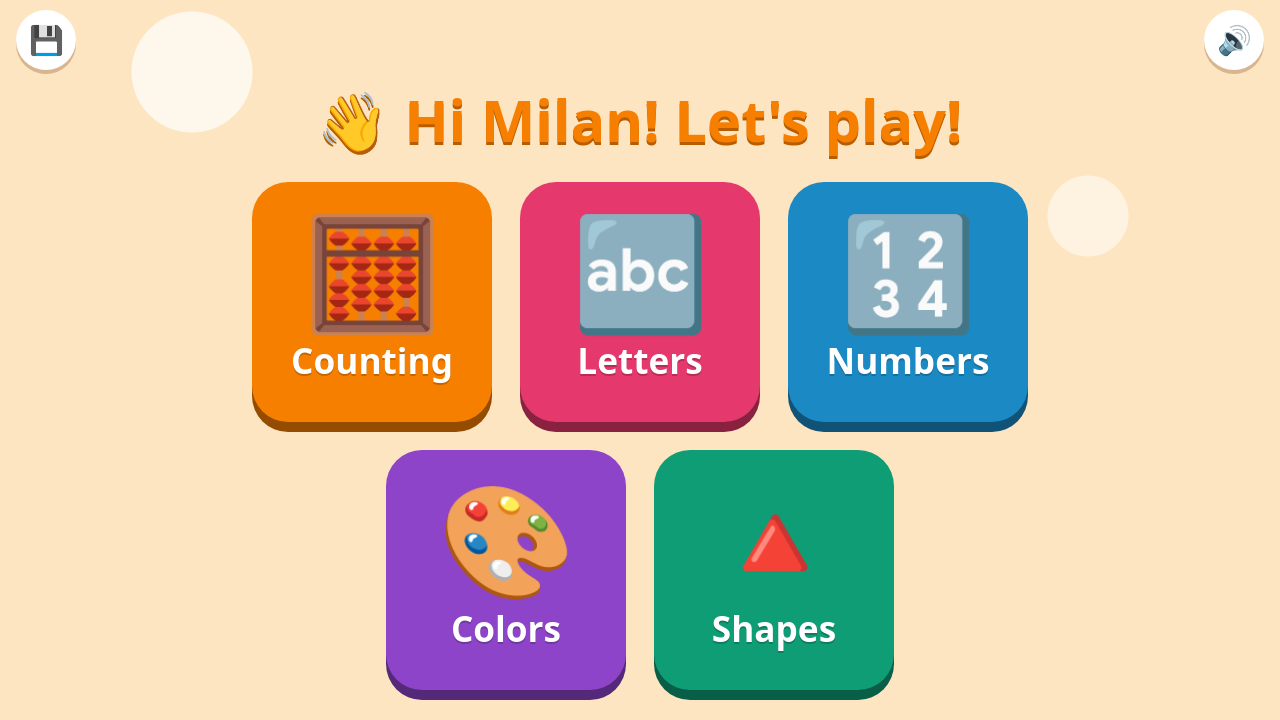
Test: Play offline › checks what is saved before offering anything
Click the button named "Play offline". click: (46, 40)
box: [16, 10, 76, 70]
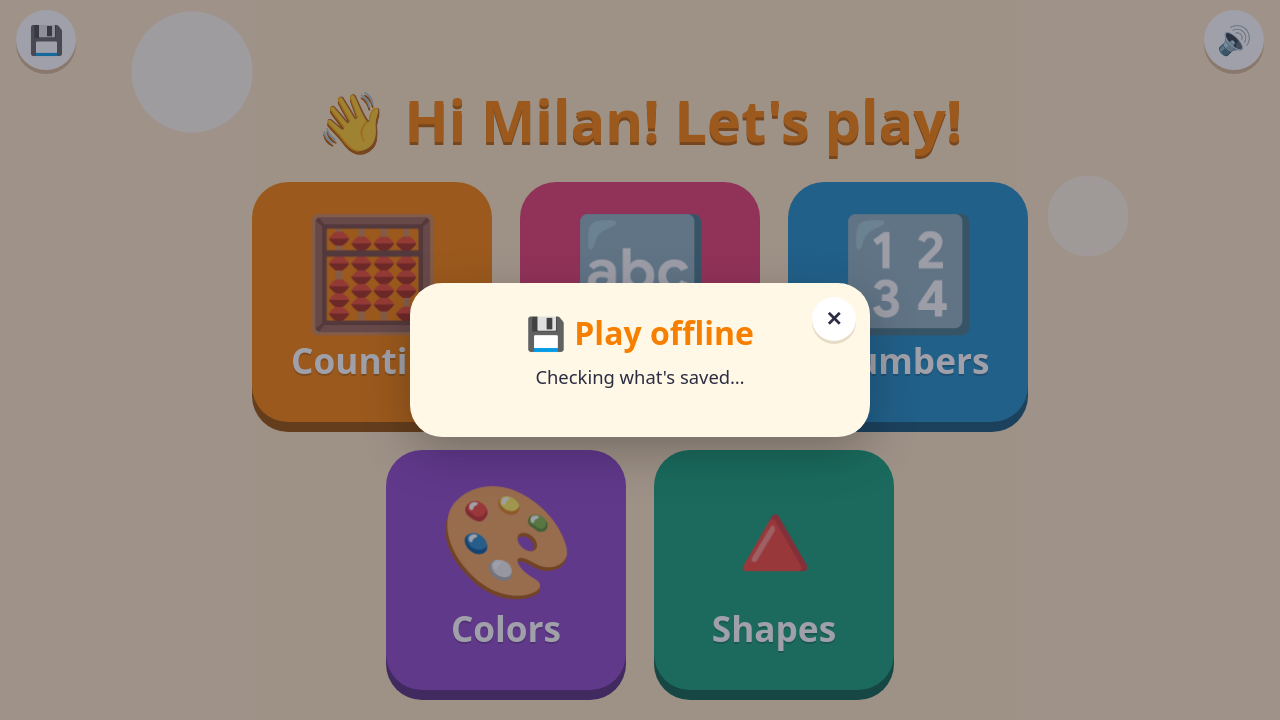
Expected: the dialog "Play offline" shows "Checking what's saved…", [535, 364, 745, 389]
